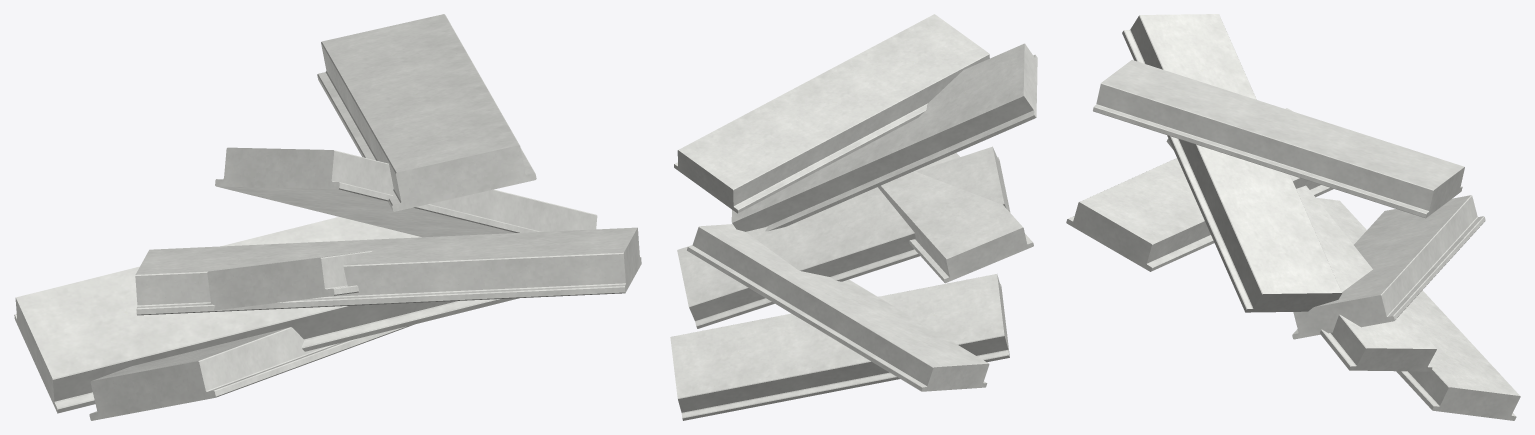
Rendered from EST-LAJ-003_anim.glb.
The picture shows the model from 3 angles, left to right: view 1: azimuth 30°, elevation 25°; view 2: azimuth 150°, elevation 25°; view 3: azimuth 270°, elevation 25°; orthographic projection. The views are drawn at different scales.
Parts seen in each view (by area): view 1: EST-LAJ-003_anim3, EST-LAJ-003_anim5, EST-LAJ-003_anim1, EST-LAJ-003_anim4, EST-LAJ-003_anim0, EST-LAJ-003_anim2; view 2: EST-LAJ-003_anim5, EST-LAJ-003_anim0, EST-LAJ-003_anim4, EST-LAJ-003_anim1, EST-LAJ-003_anim2, EST-LAJ-003_anim3; view 3: EST-LAJ-003_anim4, EST-LAJ-003_anim5, EST-LAJ-003_anim1, EST-LAJ-003_anim3, EST-LAJ-003_anim0, EST-LAJ-003_anim2.
Boxes of the visible parts, x1,y1,x2,y2 form: EST-LAJ-003_anim3: (135,227,641,315); EST-LAJ-003_anim5: (317,14,536,211); EST-LAJ-003_anim1: (14,217,519,413); EST-LAJ-003_anim4: (215,147,597,237); EST-LAJ-003_anim0: (89,324,413,420); EST-LAJ-003_anim2: (203,251,371,310); EST-LAJ-003_anim5: (674,14,989,213); EST-LAJ-003_anim0: (670,274,1009,420); EST-LAJ-003_anim4: (731,43,1037,231); EST-LAJ-003_anim1: (687,224,989,391); EST-LAJ-003_anim2: (677,146,1010,328); EST-LAJ-003_anim3: (878,152,1033,283); EST-LAJ-003_anim4: (1122,14,1342,312); EST-LAJ-003_anim5: (1093,60,1464,218); EST-LAJ-003_anim1: (1292,195,1485,339); EST-LAJ-003_anim3: (1066,108,1333,271); EST-LAJ-003_anim0: (1316,197,1520,420); EST-LAJ-003_anim2: (1166,138,1436,371).
Size of the model in its own units: 1.11 by 0.9661 by 1.26.
1 material, 1 textured.
